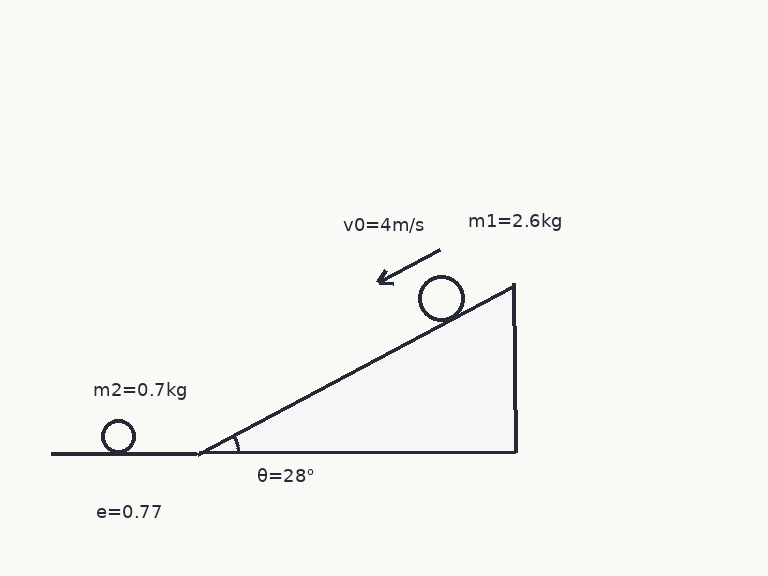ball: (416, 273, 466, 323), (99, 417, 137, 455)
ramp: (196, 283, 515, 455)
